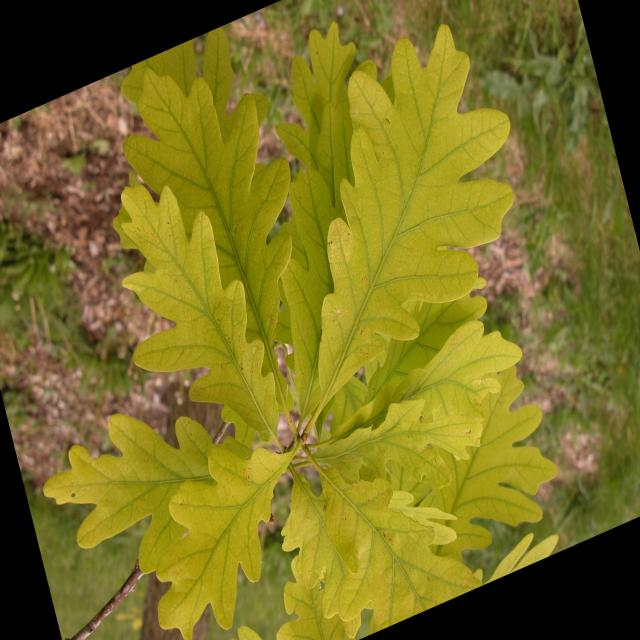Chlorosis: (66, 117, 540, 608)
